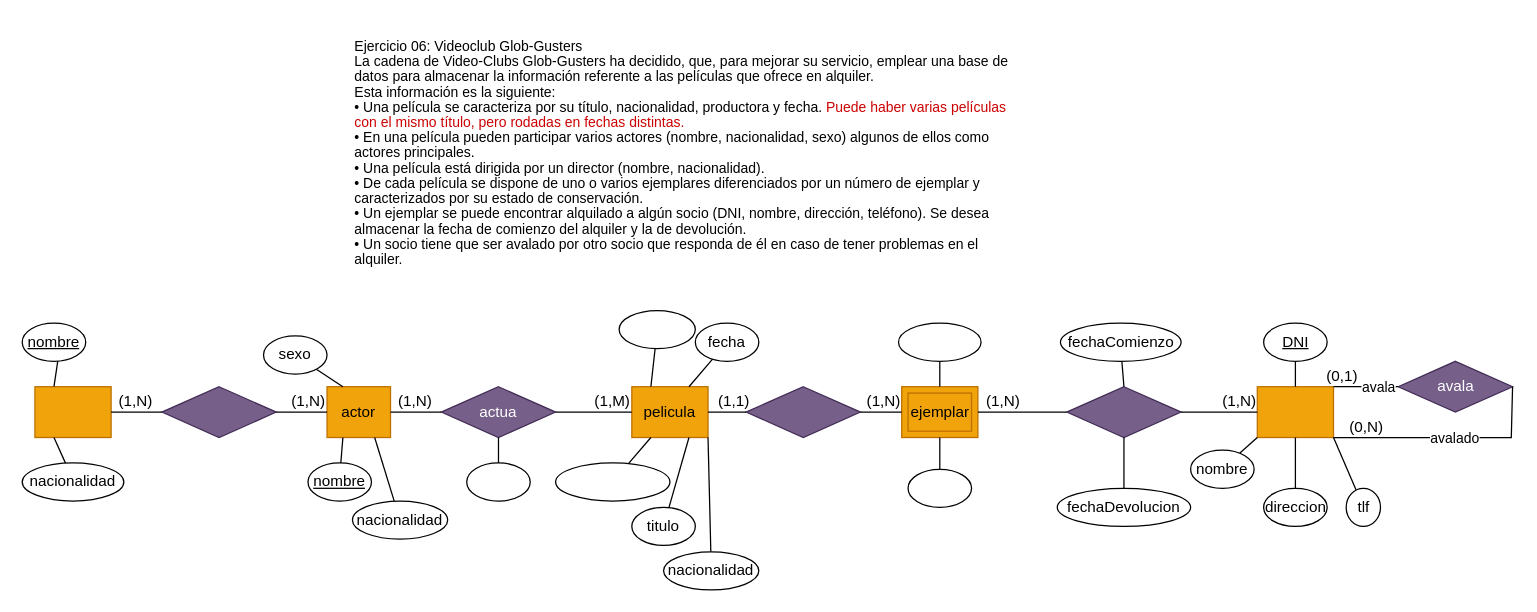
Image size: 1537x612. Some labels were removed from this diagram. The shapes that lost their labels are listed below. From the top down, each one's centre as x and y in pixels, then its label:
the point at 656,329: productora
the point at 939,341: nEjemplar
the point at 72,411: director
the point at 218,411: dirige
the point at 802,411: crea
the point at 1123,411: alquila
the point at 1295,411: socio
the point at 497,481: rolActor
the point at 612,481: codigoPelicula
the point at 939,487: estado
